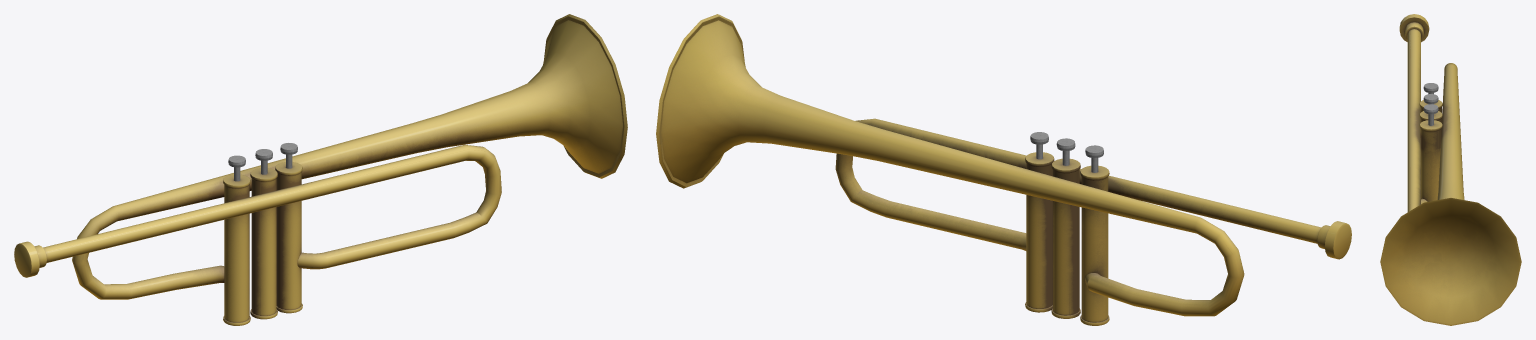
The model's file is Trumpet.fbx.
The picture shows the model from 3 angles, left to right: view 1: azimuth 30°, elevation 25°; view 2: azimuth 150°, elevation 25°; view 3: azimuth 270°, elevation 25°; orthographic projection. The views are drawn at different scales.
Visible parts, largest first — view 1: TrumpetBody; view 2: TrumpetBody; view 3: TrumpetBody, PlayCylinder3, PlayCylinder1, PlayCylinder2.
Boxes of the visible parts, x1=… form: TrumpetBody: x1=14, y1=14, x2=627, y2=325; TrumpetBody: x1=656, y1=14, x2=1351, y2=325; TrumpetBody: x1=1380, y1=14, x2=1521, y2=325; PlayCylinder3: x1=1423, y1=104, x2=1438, y2=125; PlayCylinder1: x1=1423, y1=83, x2=1438, y2=94; PlayCylinder2: x1=1423, y1=94, x2=1438, y2=104.
Size of the model in its own units: 407 by 135 by 102.
